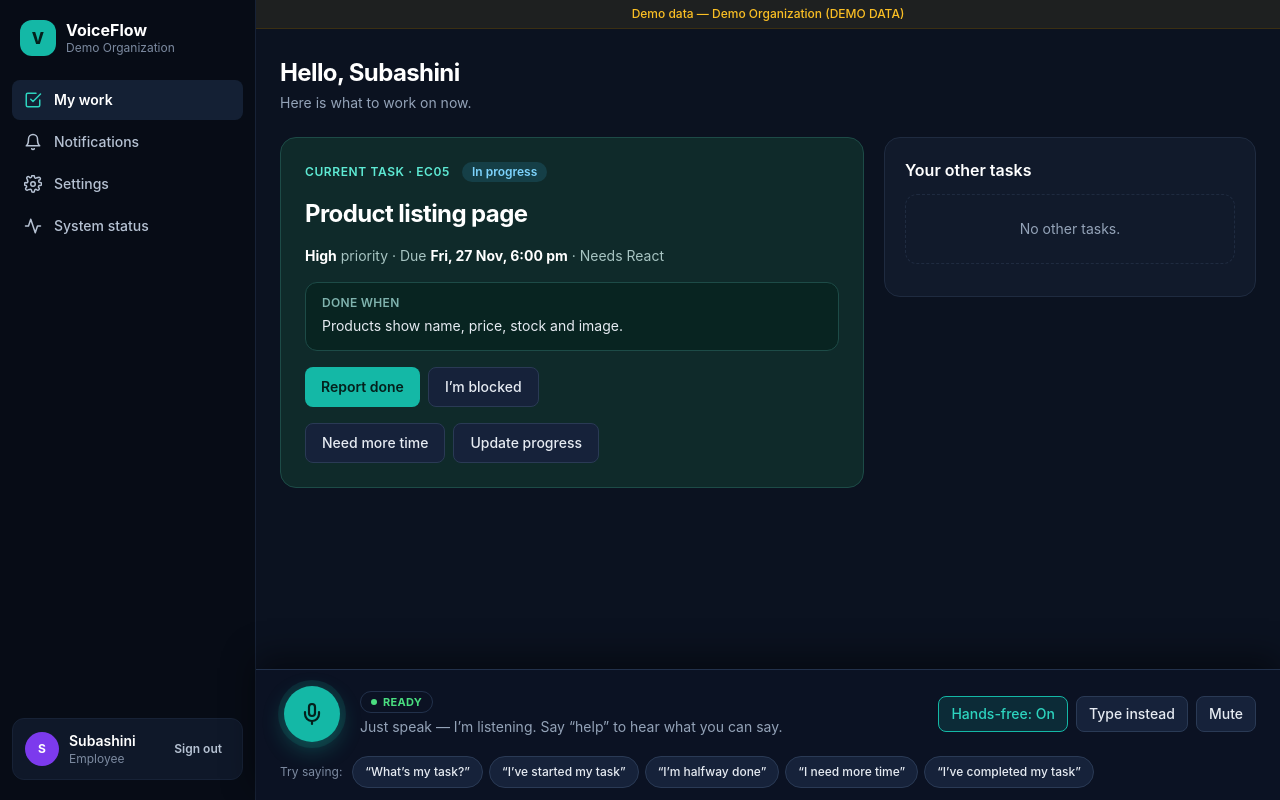
it: my work (employee) › a blocker needs a reason
The image size is (1280, 800).
Click the button "I’m blocked".
click(483, 387)  # box [428, 367, 539, 407]
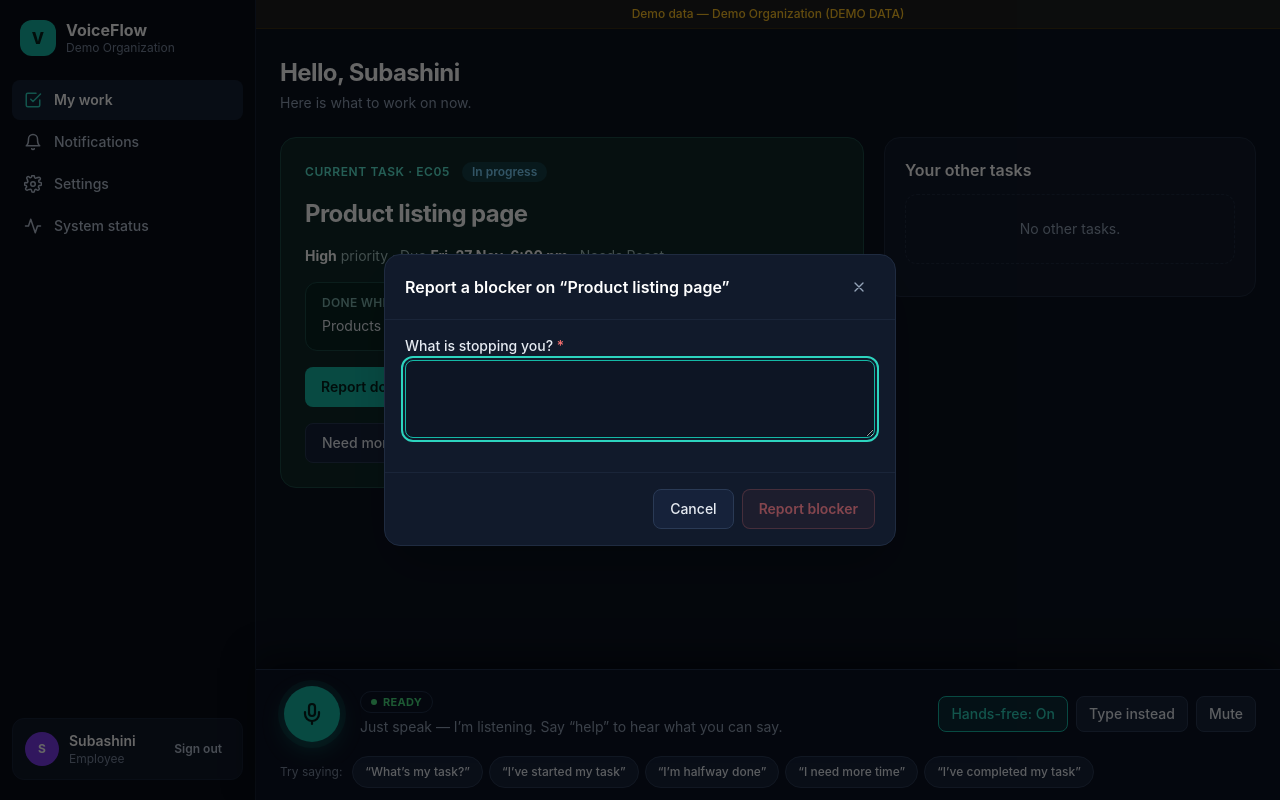
Now the button "Report blocker" is disabled, box [742, 489, 875, 529]
Press Escape
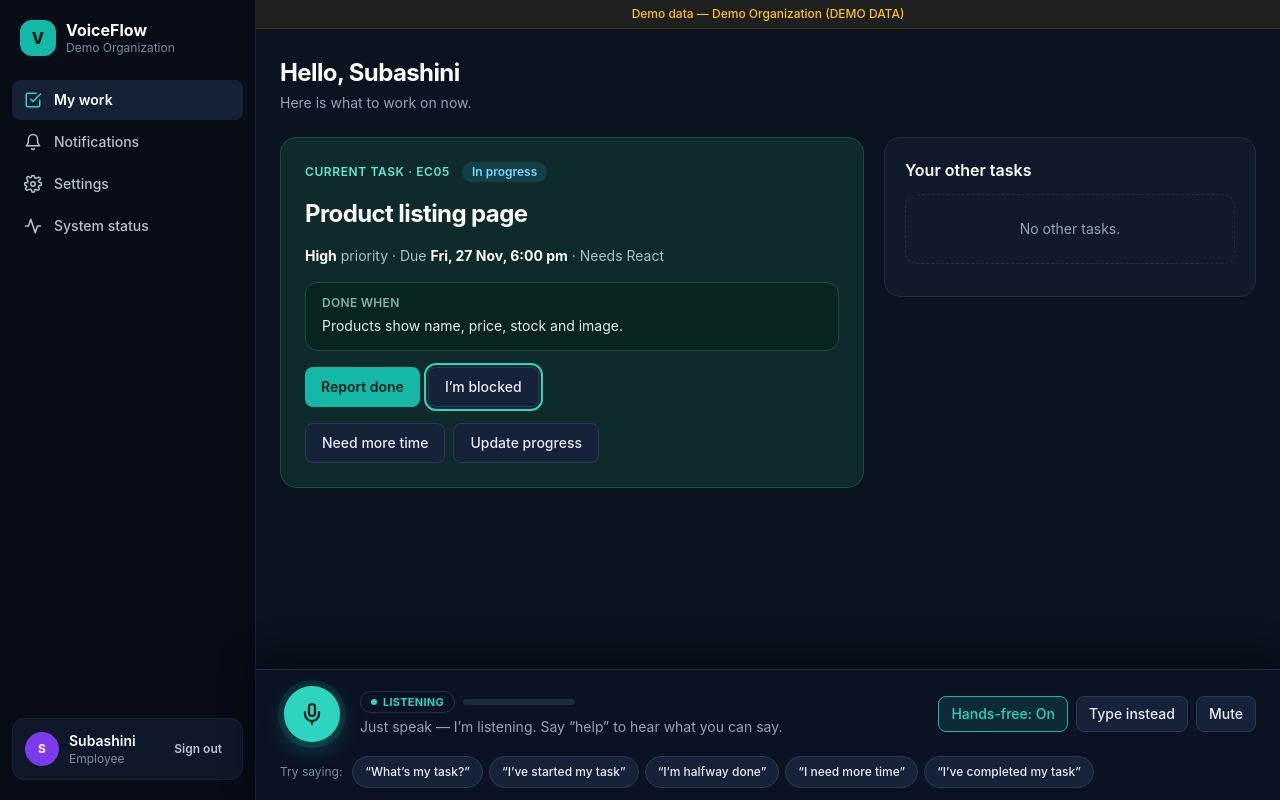
Now the dialog is gone
